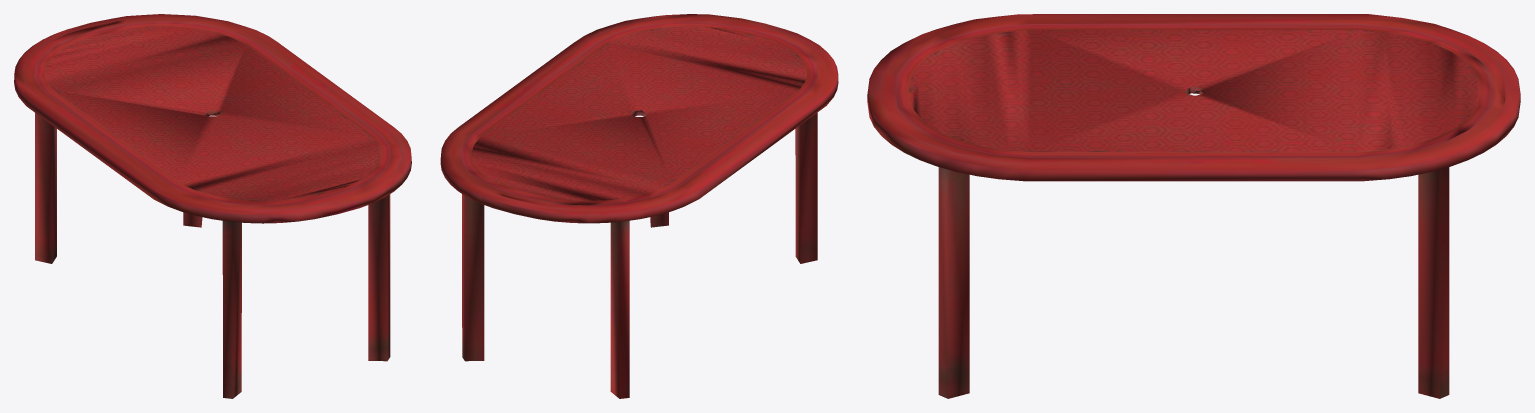
Rendered from patio_table.glb.
3 renders of one model, left to right at view 1: azimuth 30°, elevation 25°; view 2: azimuth 150°, elevation 25°; view 3: azimuth 270°, elevation 25°, orthographic. The views are drawn at different scales.
Visible parts, largest first — view 1: Plastic_Table_w; view 2: Plastic_Table_w; view 3: Plastic_Table_w.
Part boxes in pixels (<box>): Plastic_Table_w: <box>14,14,411,398</box>; Plastic_Table_w: <box>440,14,838,398</box>; Plastic_Table_w: <box>867,14,1520,398</box>.
Bounding box in the file's own units: 0.9515 × 0.7195 × 1.67.
1 material, 1 textured.
